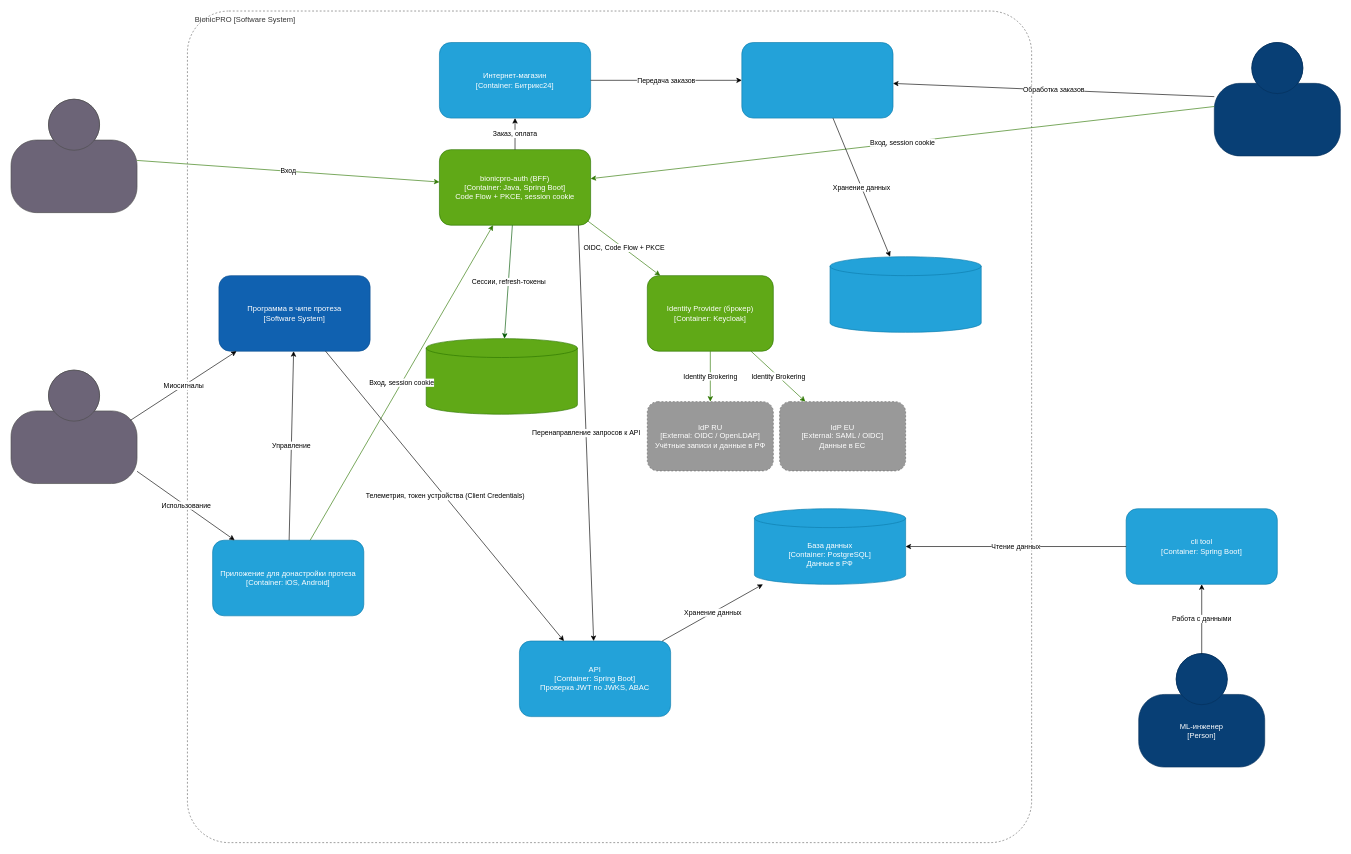
Image size: 1351x854. Some labels were removed from this diagram. The centre of each missing label's shape, as x and y in pixels:
"bionicpro-auth DB [Container: Redis] Сессии, refresh-токены, TTL" belongs at point 501,376.
"CRM [Container: Битрикс24]" belongs at point 817,80.
"CRM DB [Container: Oracle Database 12] Данные в РФ" belongs at point 905,294.
"Оператор производства [Person]" belongs at point 1277,99.
"Пилот протеза [Person]" belongs at point 73,426.
"Покупатель протеза [Person]" belongs at point 73,156.
